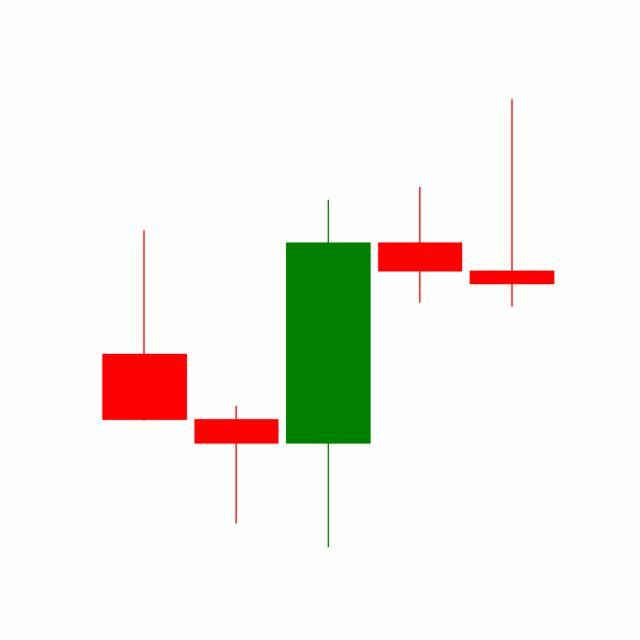Spinning Top: (466, 97, 559, 310)
